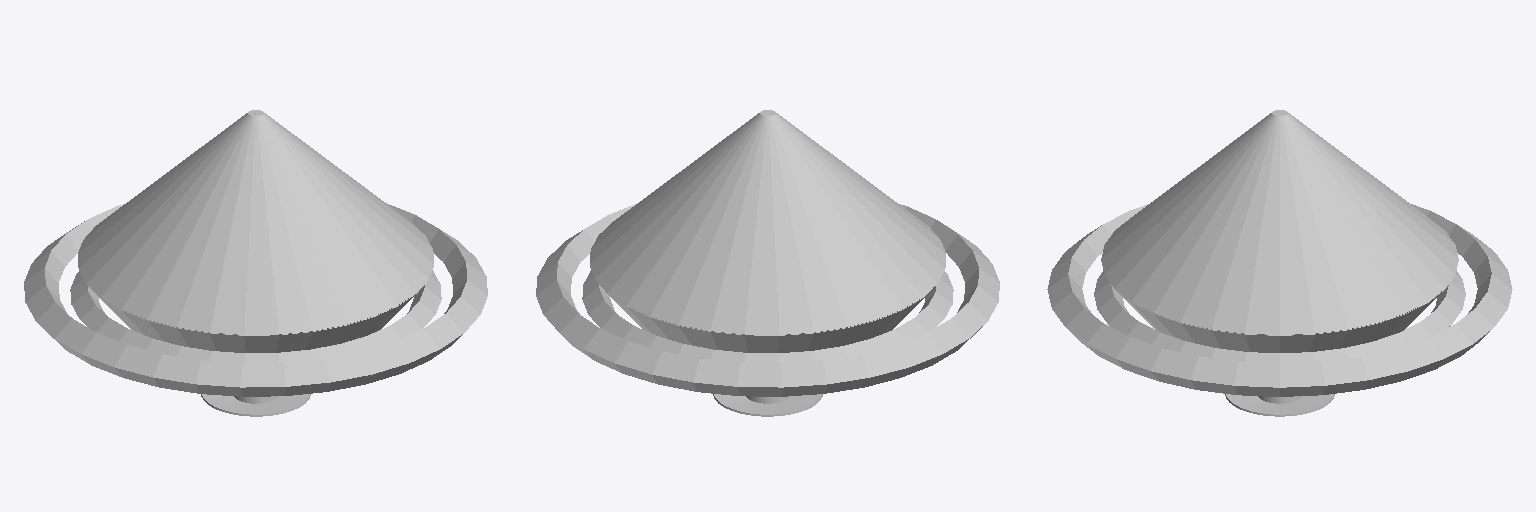
Rendered from final arenav2.obj.
The picture shows the model from 3 angles: view 1: azimuth 30°, elevation 25°; view 2: azimuth 150°, elevation 25°; view 3: azimuth 270°, elevation 25°; orthographic projection.
Parts seen in each view (by area): view 1: Cylinder, Cylinder_Plate.001, Cylinder_Plate; view 2: Cylinder, Cylinder_Plate.001, Cylinder_Plate; view 3: Cylinder, Cylinder_Plate.001, Cylinder_Plate.
Part boxes in pixels (bbox=[...]): Cylinder: bbox=[78, 110, 433, 416]; Cylinder_Plate.001: bbox=[24, 203, 487, 396]; Cylinder_Plate: bbox=[70, 270, 441, 362]; Cylinder: bbox=[590, 110, 945, 416]; Cylinder_Plate.001: bbox=[536, 203, 999, 396]; Cylinder_Plate: bbox=[582, 270, 953, 362]; Cylinder: bbox=[1101, 110, 1458, 416]; Cylinder_Plate.001: bbox=[1047, 204, 1512, 396]; Cylinder_Plate: bbox=[1094, 271, 1465, 362].
Bounding box in the file's own units: 313 × 212 × 313.